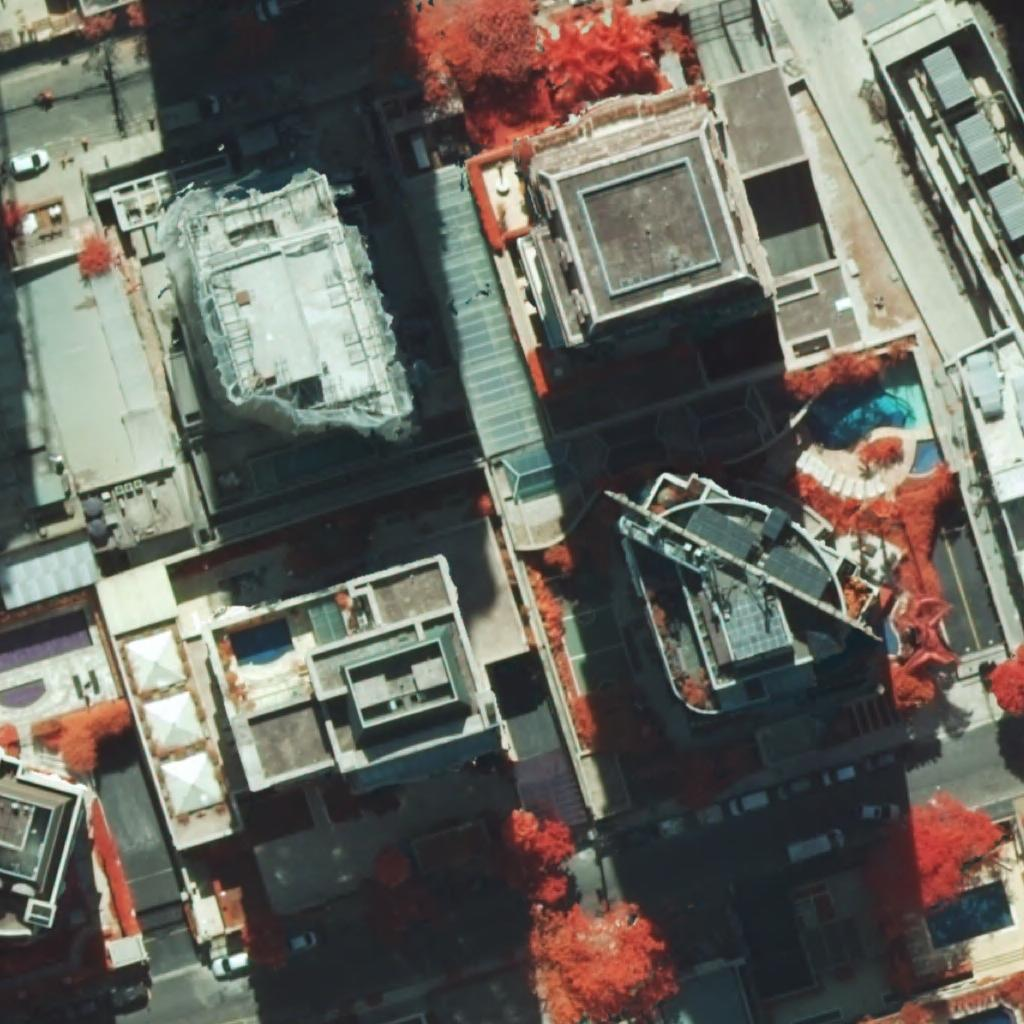pool: (802, 375, 917, 450), (925, 880, 1014, 950), (0, 609, 93, 673), (228, 617, 295, 667), (0, 677, 47, 708), (949, 1005, 1018, 1024), (909, 438, 945, 474)
